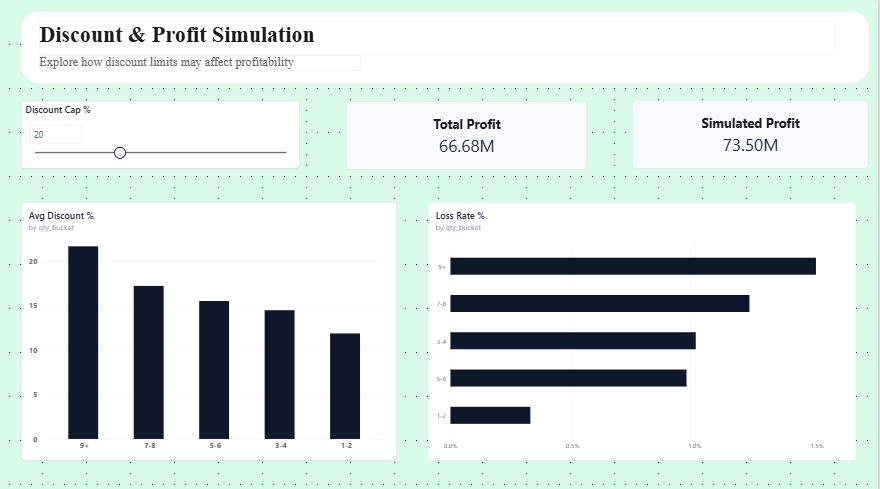

This screenshot's page, from the dashboard's own definition file:
{"tool":"powerbi","page":{"name":"Interaksi Qty & Simulasi Diskon ","canvas":[1920,1080],"ordinal":3},"visuals":[{"type":"shape","box":[50.2,24,1850.2,157.1],"z":0},{"type":"textbox","box":[90,46.7,1736.7,73.3],"z":1000},{"type":"textbox","box":[89.5,120,702.5,34.9],"z":2000},{"type":"slicer","title":"Discount Cap %","fields":{"Values":["Discount Cap %.Discount Cap %"]},"box":[50,220,607.1,147.1],"z":3000},{"type":"cardVisual","fields":{"Data":["orders_prepped.Total Profit"]},"box":[760,220,526,150],"z":3001},{"type":"cardVisual","fields":{"Data":["orders_prepped.Simulated Profit"]},"box":[1384,218,516,150],"z":3002},{"type":"clusteredColumnChart","fields":{"Y":["orders_prepped.Avg Discount %"],"Category":["orders_prepped.qty_bucket"]},"box":[50,440,820,564],"z":3003},{"type":"clusteredBarChart","fields":{"Y":["orders_prepped.Loss Rate %"],"Category":["orders_prepped.qty_bucket"]},"box":[938,440,934,564],"z":3004}]}

Visuals, with their boxes in screenshot pixels (x1, y1, x2, y2), scaled from the page's 1920x1080 canvas onto the 880x489 screenshot:
shape: bbox=(23, 11, 871, 82)
textbox: bbox=(41, 21, 837, 54)
textbox: bbox=(41, 54, 363, 70)
"Discount Cap %" slicer: bbox=(23, 100, 301, 166)
cardVisual - orders_prepped.Total Profit: bbox=(348, 100, 589, 168)
cardVisual - orders_prepped.Simulated Profit: bbox=(634, 99, 871, 167)
clusteredColumnChart - orders_prepped.Avg Discount % x orders_prepped.qty_bucket: bbox=(23, 199, 399, 455)
clusteredBarChart - orders_prepped.Loss Rate % x orders_prepped.qty_bucket: bbox=(430, 199, 858, 455)
